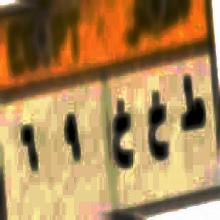6: (20, 119, 40, 181)
9: (63, 111, 81, 171)
Taa: (180, 72, 206, 144)
khaa: (145, 86, 169, 165), (112, 100, 134, 174)
